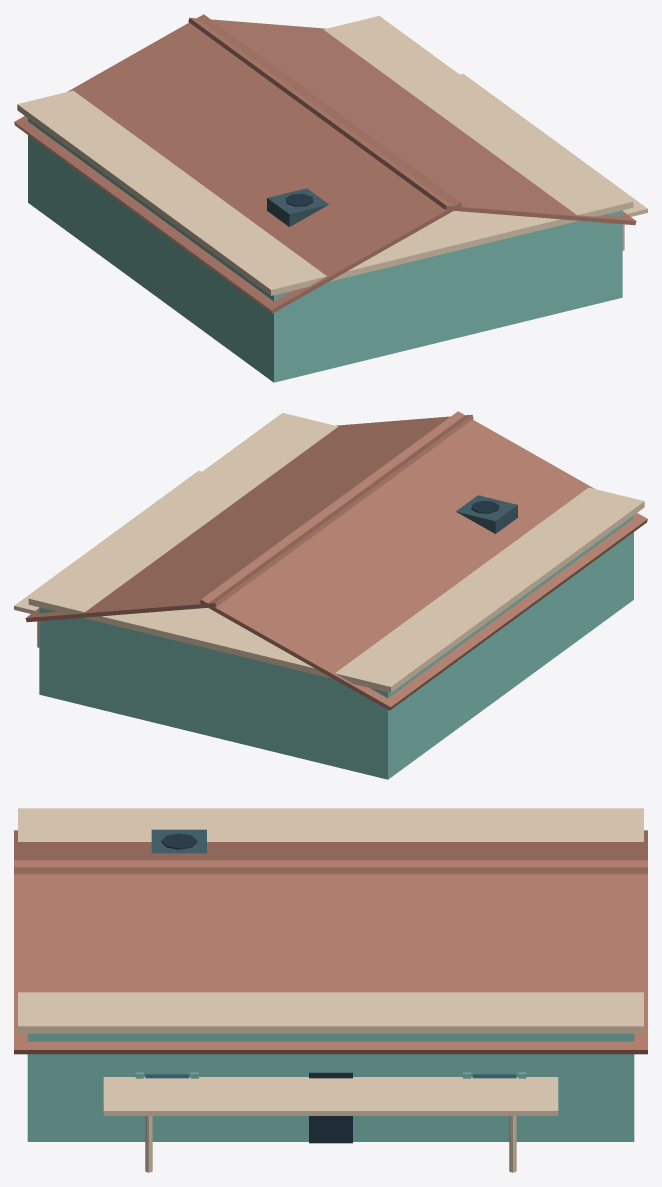
The model's file is building-bungalow.obj.
3 views of the same model, one above another, from view 1: azimuth 30°, elevation 25°; view 2: azimuth 150°, elevation 25°; view 3: azimuth 270°, elevation 25° (orthographic). The views are drawn at different scales.
Parts seen in each view (by area): view 1: building-bungalow; view 2: building-bungalow; view 3: building-bungalow.
Part boxes in pixels (x1,y1,x2,y2): building-bungalow: (14, 14, 647, 382); building-bungalow: (14, 411, 647, 779); building-bungalow: (14, 808, 647, 1172).
Size of the model in its own units: 21.33 by 6.91 by 23.
